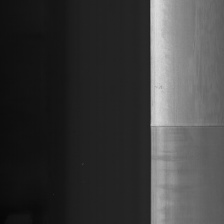welding_line: (151, 120, 222, 131)
